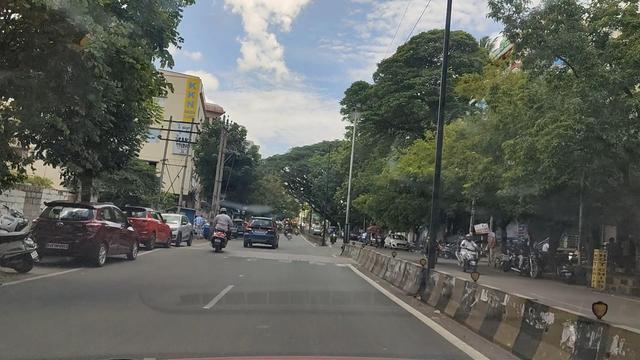LMV: (39, 195, 142, 264), (207, 196, 236, 251), (242, 213, 282, 248)
